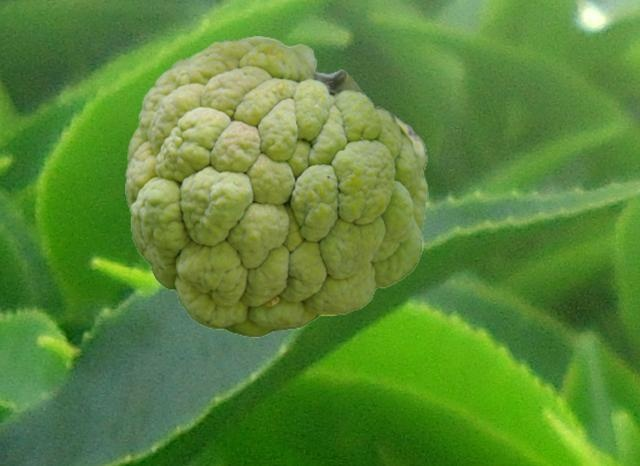atis: (125, 36, 427, 336)
